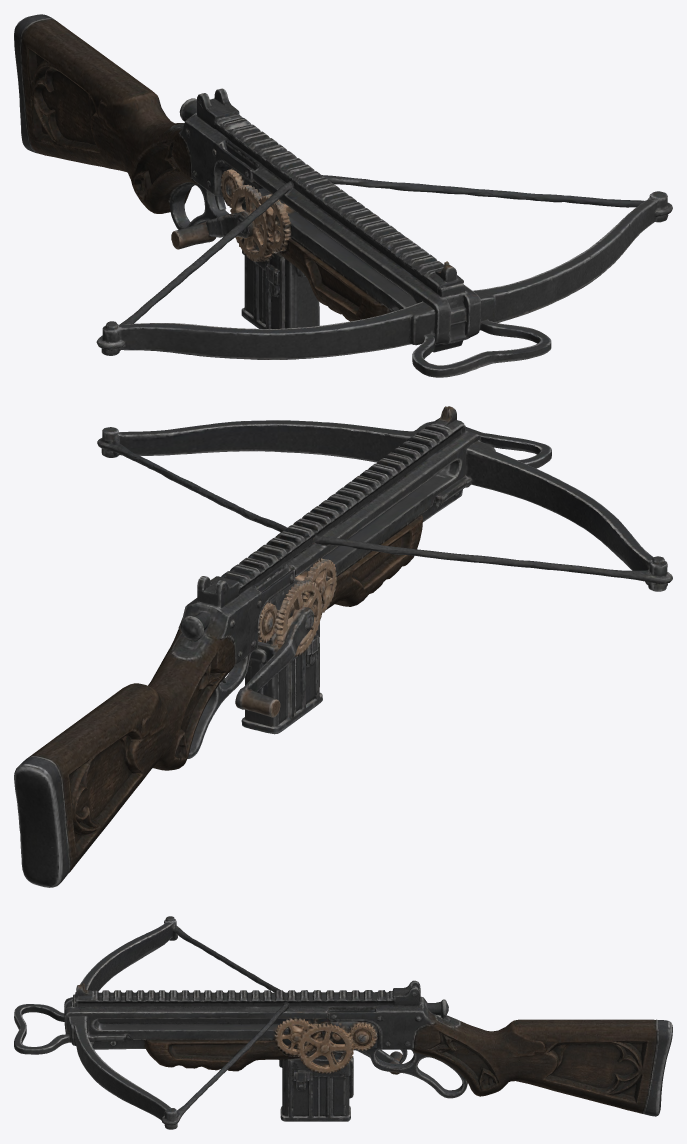
Rendered from repeating_arbalest.high.glb.
3 renders of one model, top to bottom at view 1: azimuth 30°, elevation 25°; view 2: azimuth 150°, elevation 25°; view 3: azimuth 270°, elevation 25°, orthographic. The views are drawn at different scales.
Parts seen in each view (by area): view 1: model; view 2: model; view 3: model.
Part boxes in pixels (x1,y1,x2,y2): model: (14, 14, 672, 377); model: (14, 406, 672, 887); model: (14, 916, 672, 1129).
Bounding box in the file's own units: 0.6755 × 0.2104 × 0.9507.
Materials: 1 (1 with a texture image).
